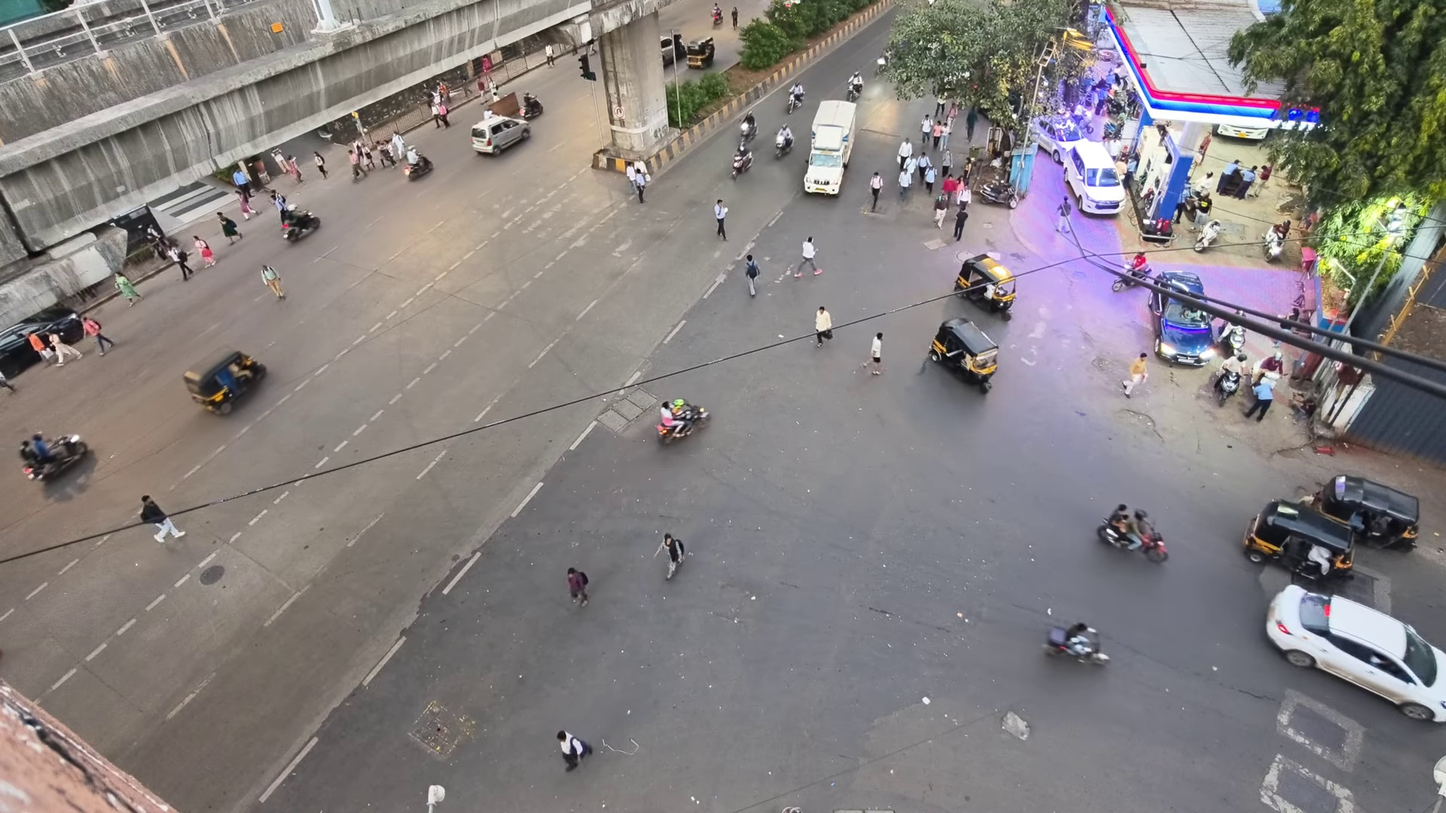walking: (634, 172, 721, 228), (368, 102, 450, 160), (140, 495, 185, 543), (557, 730, 592, 770), (1244, 379, 1274, 422), (83, 316, 115, 355), (1121, 352, 1147, 397), (795, 236, 822, 277), (49, 333, 81, 367), (662, 533, 685, 577), (114, 273, 142, 306), (217, 212, 243, 244), (261, 264, 284, 299), (567, 568, 588, 606), (1234, 166, 1257, 199), (169, 246, 191, 280), (29, 332, 53, 362), (193, 236, 215, 266), (816, 306, 831, 347), (1056, 196, 1072, 233), (745, 254, 759, 295), (940, 129, 952, 175), (356, 142, 375, 171), (870, 332, 883, 374), (715, 199, 728, 239), (935, 118, 951, 150), (869, 172, 882, 211), (934, 195, 949, 228), (953, 208, 968, 241), (956, 179, 972, 209), (233, 168, 249, 197), (897, 139, 912, 169), (286, 155, 302, 183), (390, 131, 405, 160), (348, 150, 362, 181), (966, 106, 978, 142), (239, 195, 255, 220), (931, 119, 944, 149), (898, 166, 911, 196), (917, 153, 932, 179), (921, 116, 932, 151), (313, 151, 326, 179), (273, 190, 286, 218), (0, 371, 17, 392), (923, 166, 935, 193), (625, 163, 636, 187), (545, 44, 554, 67), (731, 7, 737, 29)
